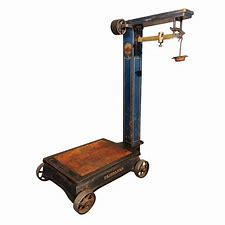Industrial Scale: (34, 7, 196, 216)
